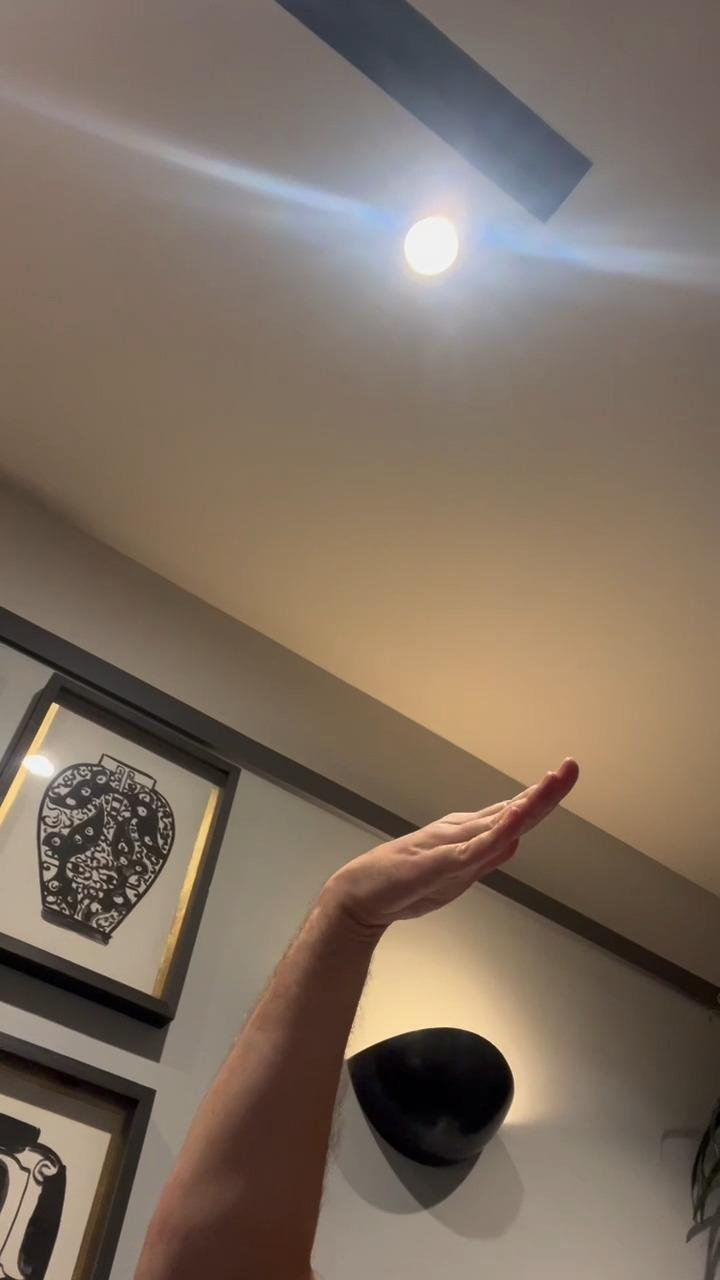Paper: (332, 756, 581, 922)
